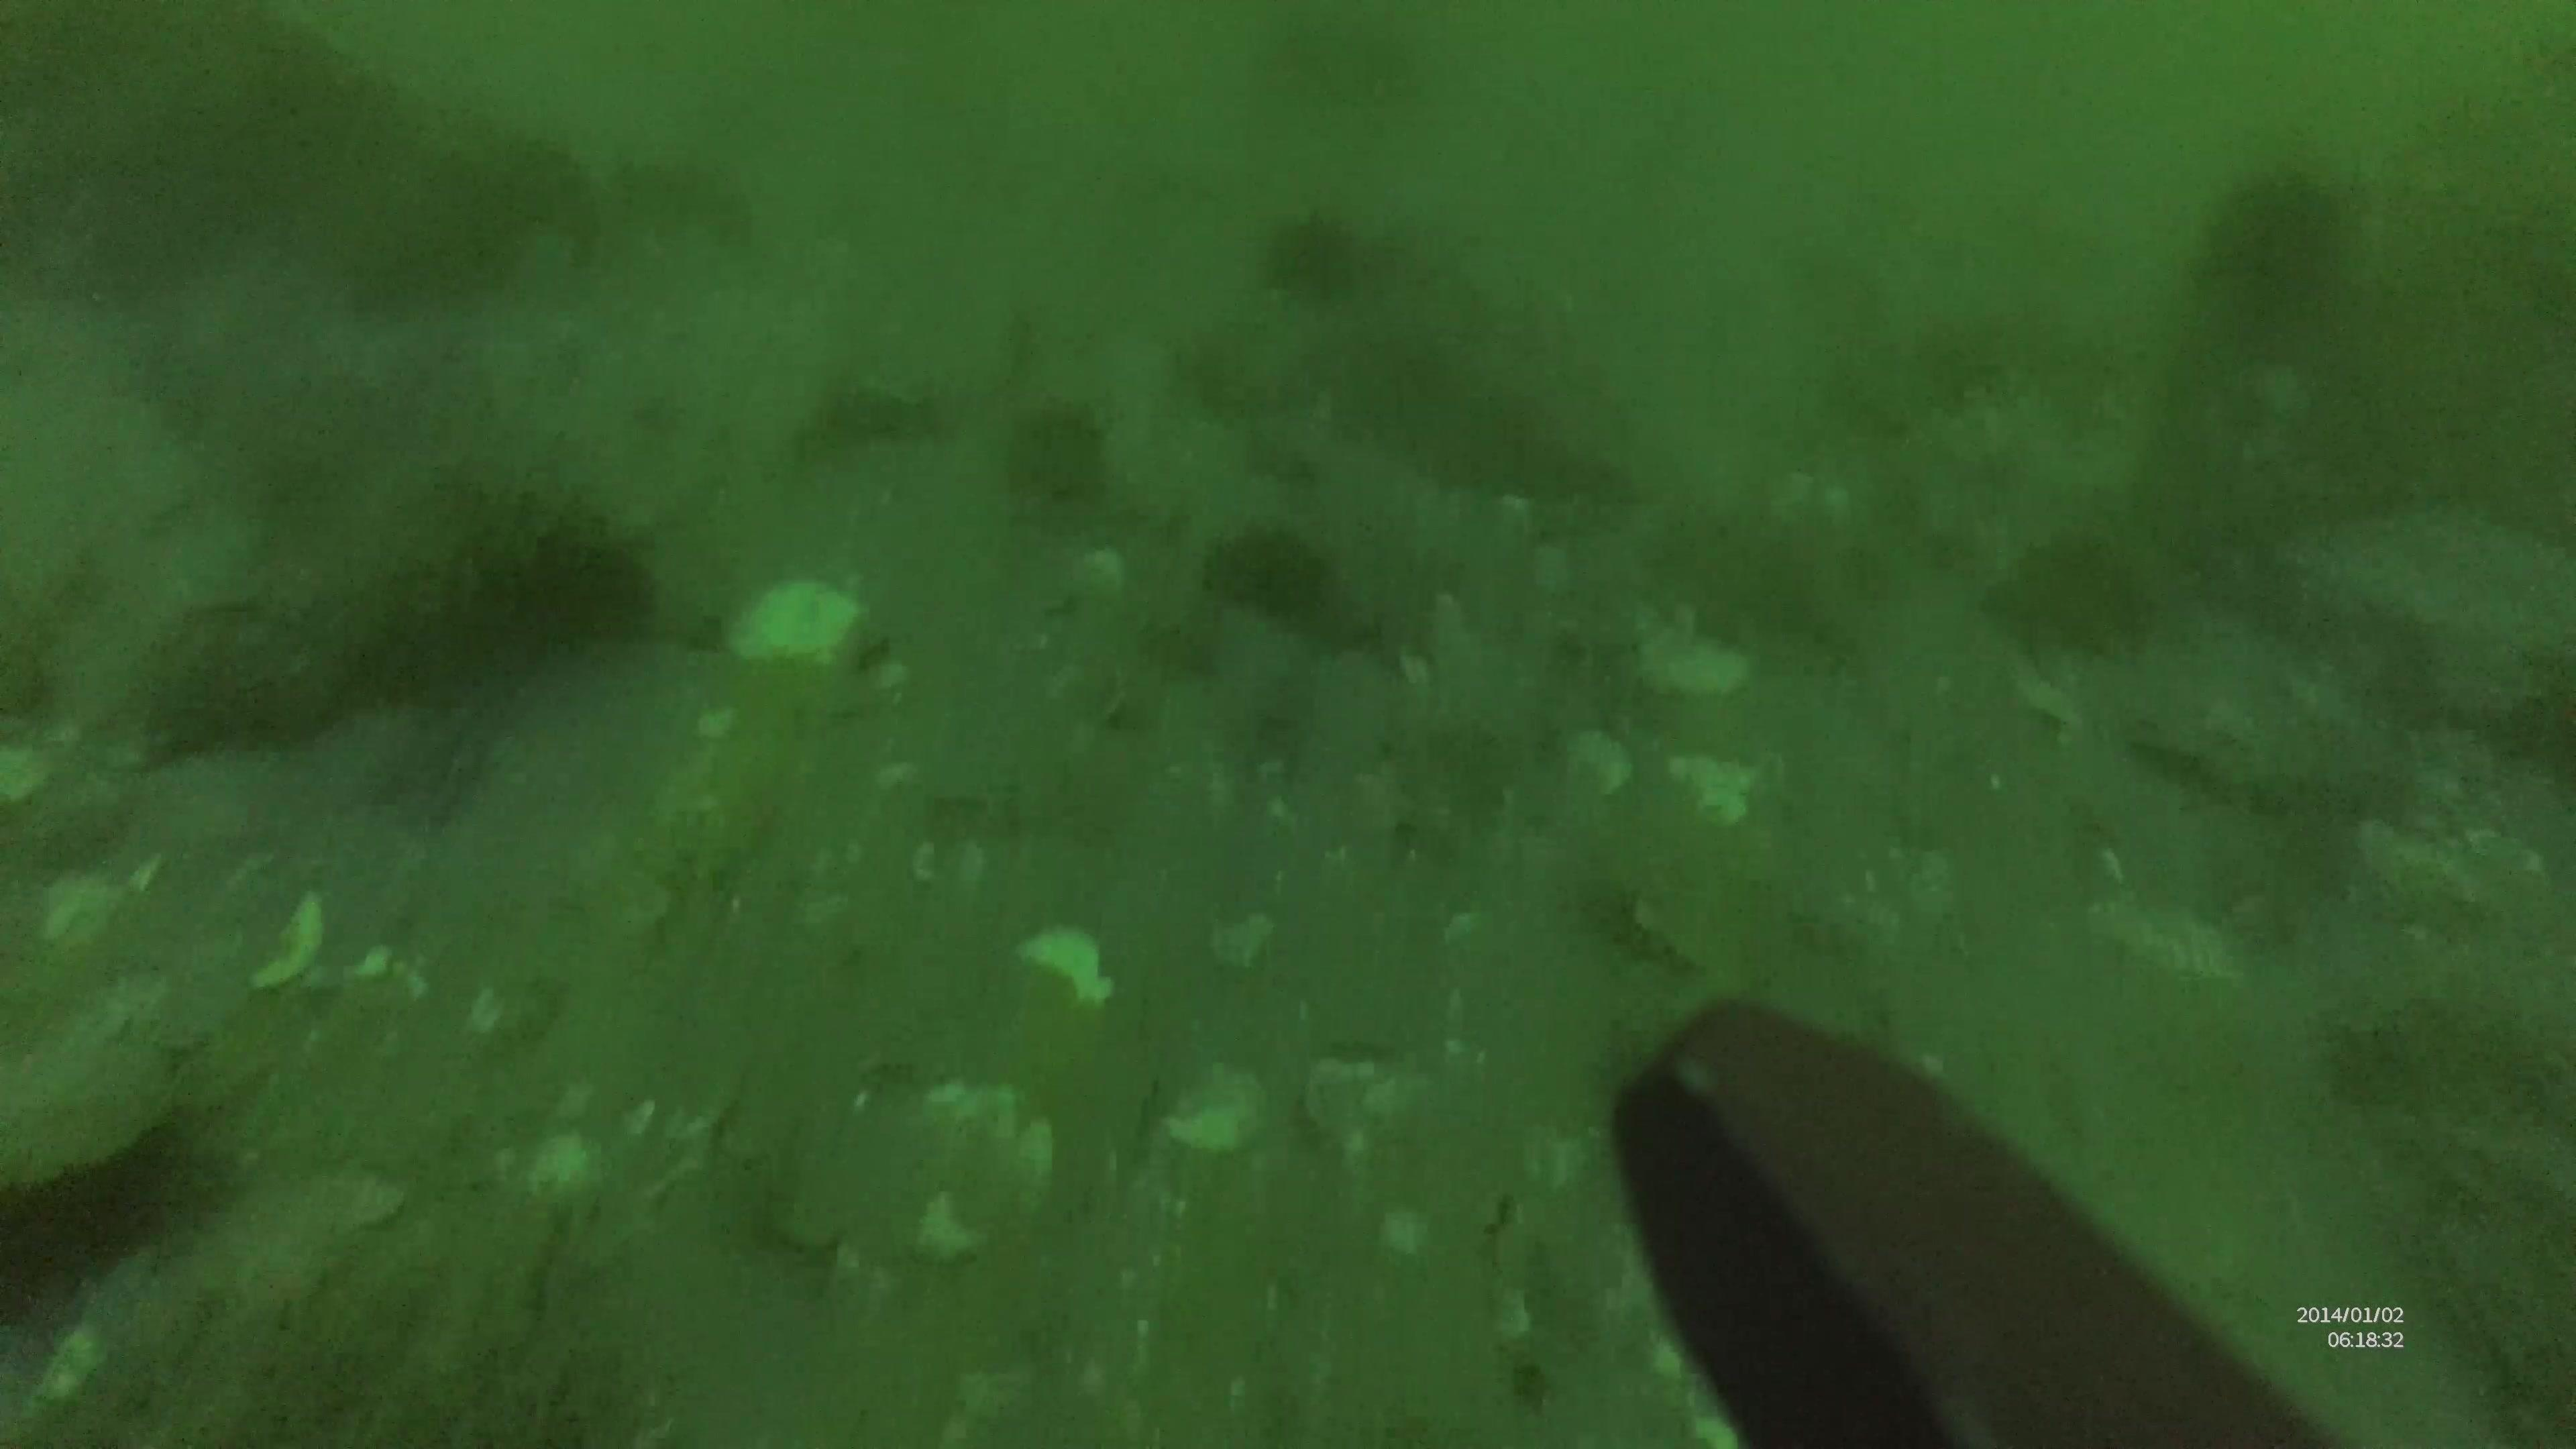echinus: (2194, 157, 2364, 336), (1200, 518, 1325, 625), (1254, 214, 1361, 295)
